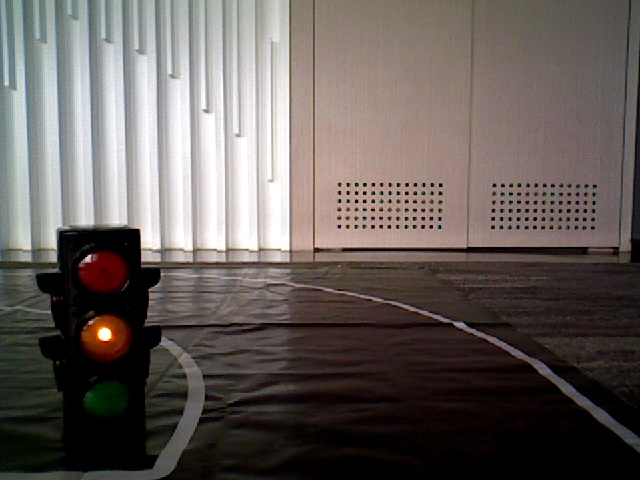yellow: (59, 232, 142, 425)
